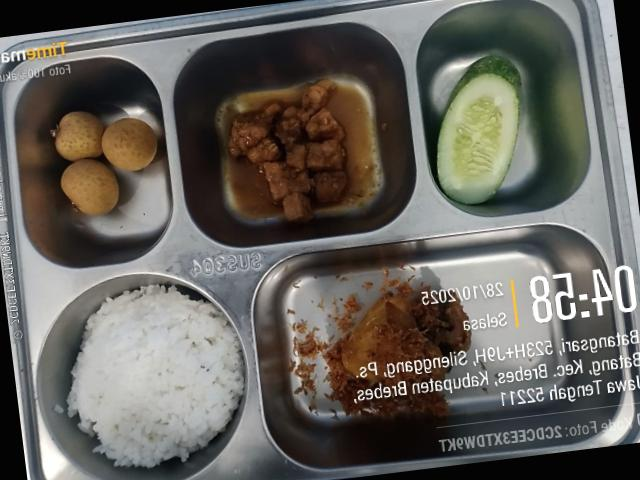ayam: (323, 281, 470, 417)
buah: (52, 111, 157, 215)
nasi: (67, 284, 244, 467)
sayur: (437, 56, 520, 204)
tempe: (227, 78, 351, 222)
